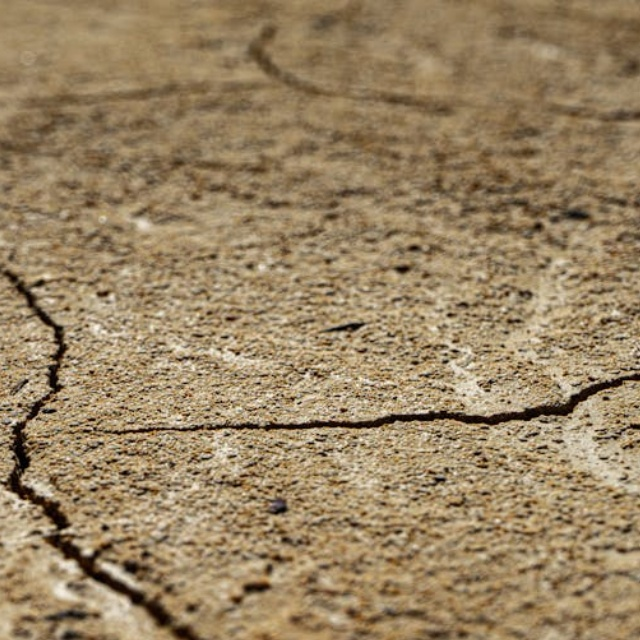细微裂纹: (0, 101, 159, 640), (0, 141, 127, 465), (0, 226, 116, 560)
网状裂隙: (0, 103, 613, 640)
